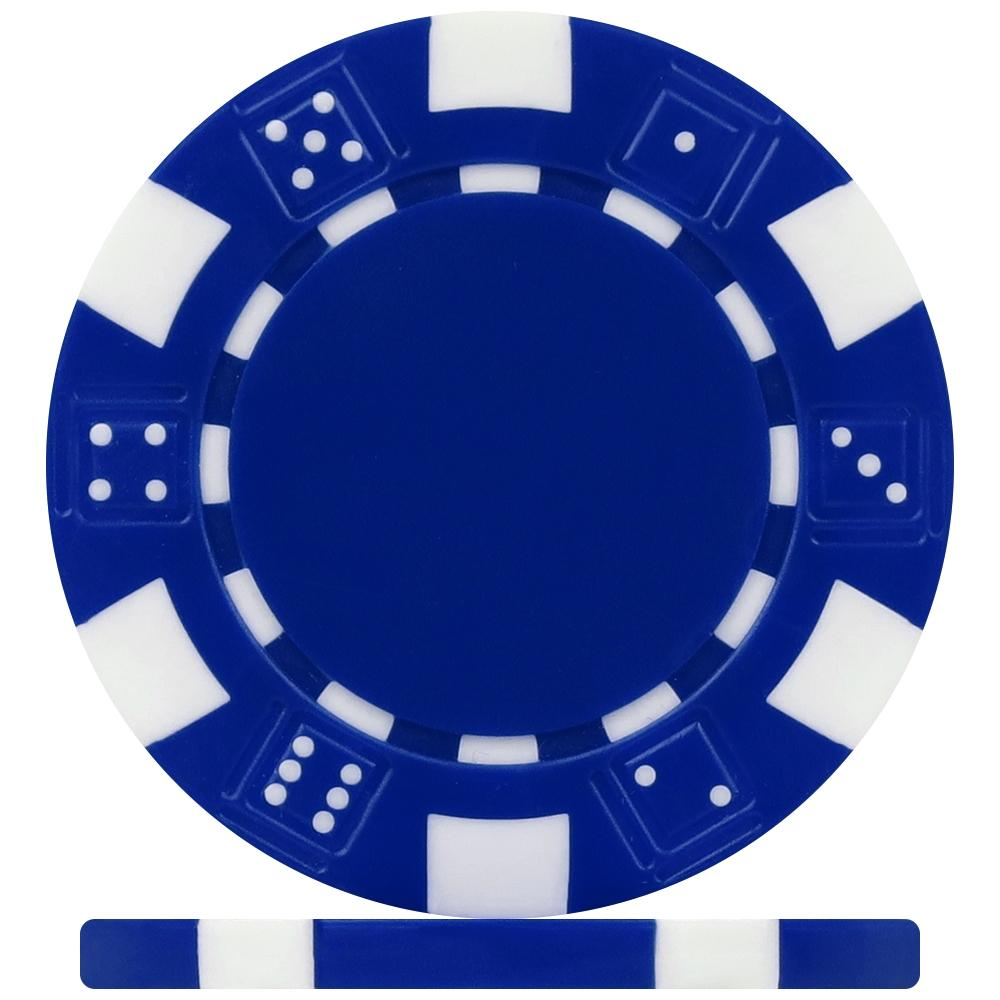chip-blue: (47, 12, 951, 916), (80, 920, 920, 988)
